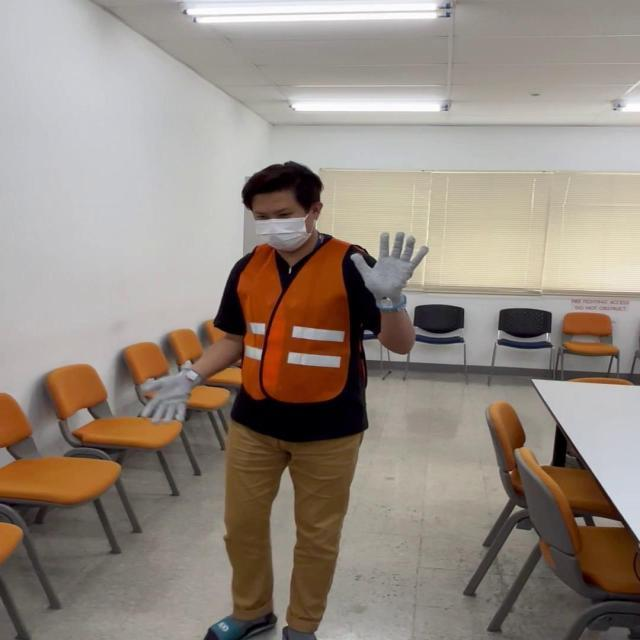gloved_hand: (348, 229, 428, 302), (141, 366, 193, 426)
